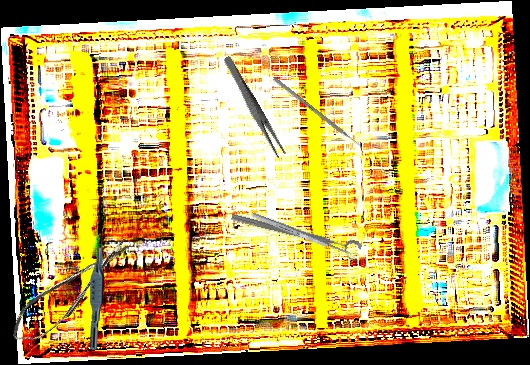Dressing Forceps: (220, 55, 287, 159)
Fixation Ring: (228, 210, 363, 263)
Micro Scissor: (2, 231, 142, 351)
Pusher: (272, 76, 369, 154)
Surgical Spoon: (251, 211, 360, 261)
Tissue Forceps: (88, 234, 107, 351)
